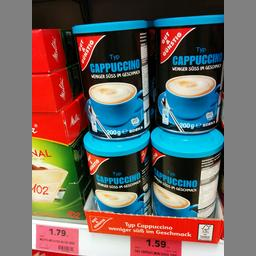coffee: (70, 18, 151, 137), (148, 14, 222, 134), (150, 124, 222, 218), (82, 128, 148, 213)
